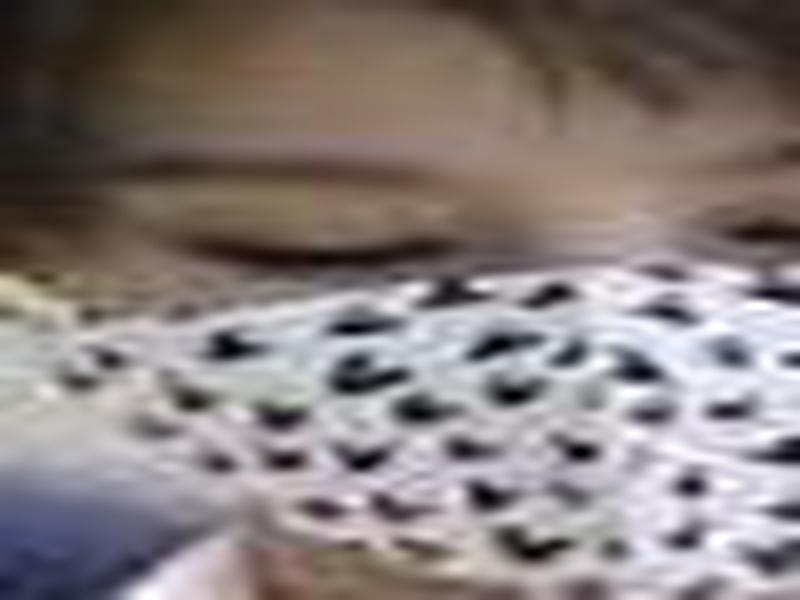with_mask: (1, 3, 797, 600)
